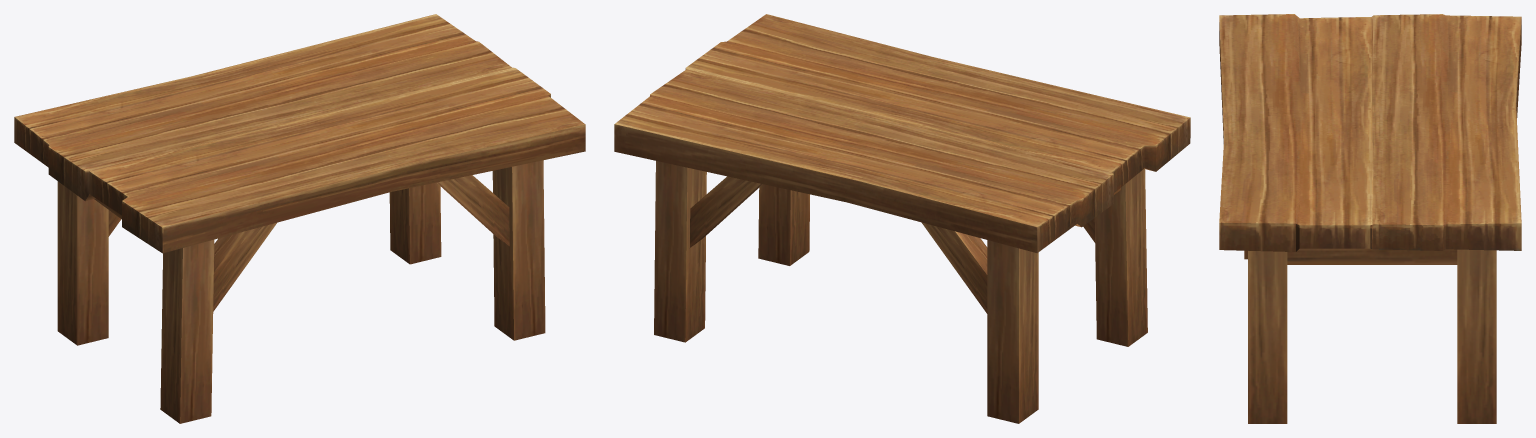
The model's file is Table_Wooden_01.FBX.
3 renders of one model, left to right at view 1: azimuth 30°, elevation 25°; view 2: azimuth 150°, elevation 25°; view 3: azimuth 270°, elevation 25°, orthographic.
Parts seen in each view (by area): view 1: Table_Wooden_01; view 2: Table_Wooden_01; view 3: Table_Wooden_01.
Boxes of the visible parts, box(x1,y1,x2,y2) form: Table_Wooden_01: box(14, 14, 585, 423); Table_Wooden_01: box(614, 14, 1190, 423); Table_Wooden_01: box(1219, 14, 1521, 423).
Size of the model in its own units: 205 by 124 by 96.69.
